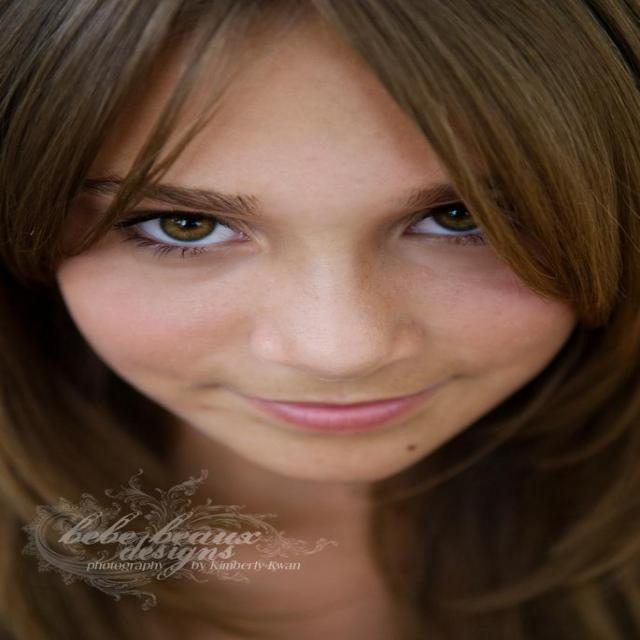no-glass: (96, 197, 501, 259)
